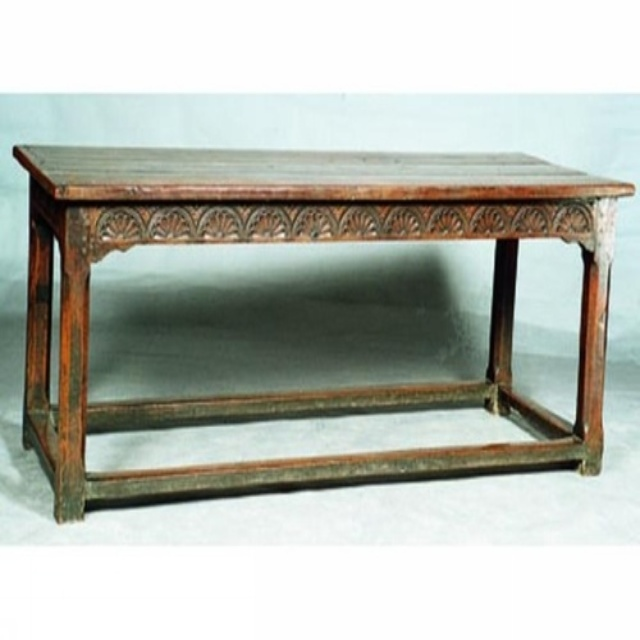obstacle: (13, 145, 634, 521)
